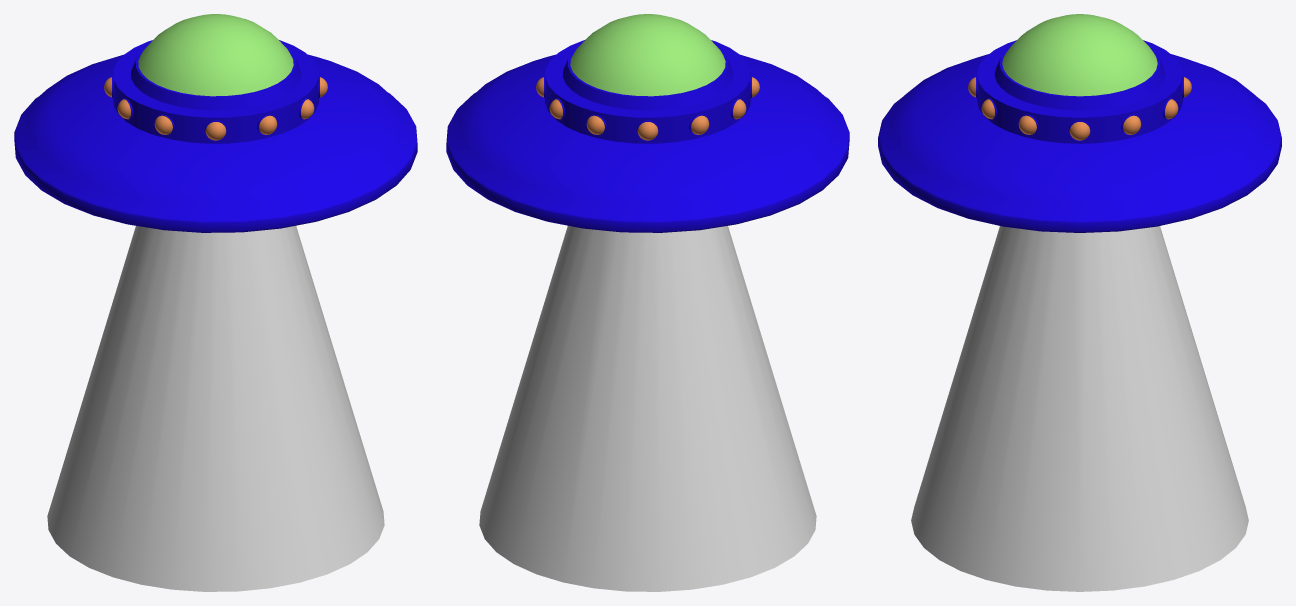
File: Ufo.fbx
3 views of the same model, side by side, from view 1: azimuth 30°, elevation 25°; view 2: azimuth 150°, elevation 25°; view 3: azimuth 270°, elevation 25° (orthographic).
Visible parts, largest first — view 1: Ray_outher, Ufo.001; view 2: Ray_outher, Ufo.001; view 3: Ray_outher, Ufo.001.
Part boxes in pixels (x1,y1,x2,y2): Ray_outher: [47, 225, 384, 591]; Ufo.001: [14, 14, 417, 232]; Ray_outher: [479, 225, 816, 591]; Ufo.001: [446, 14, 849, 232]; Ray_outher: [911, 226, 1248, 591]; Ufo.001: [878, 14, 1281, 232].
Bounding box in the file's own units: 302 × 411 × 302.
